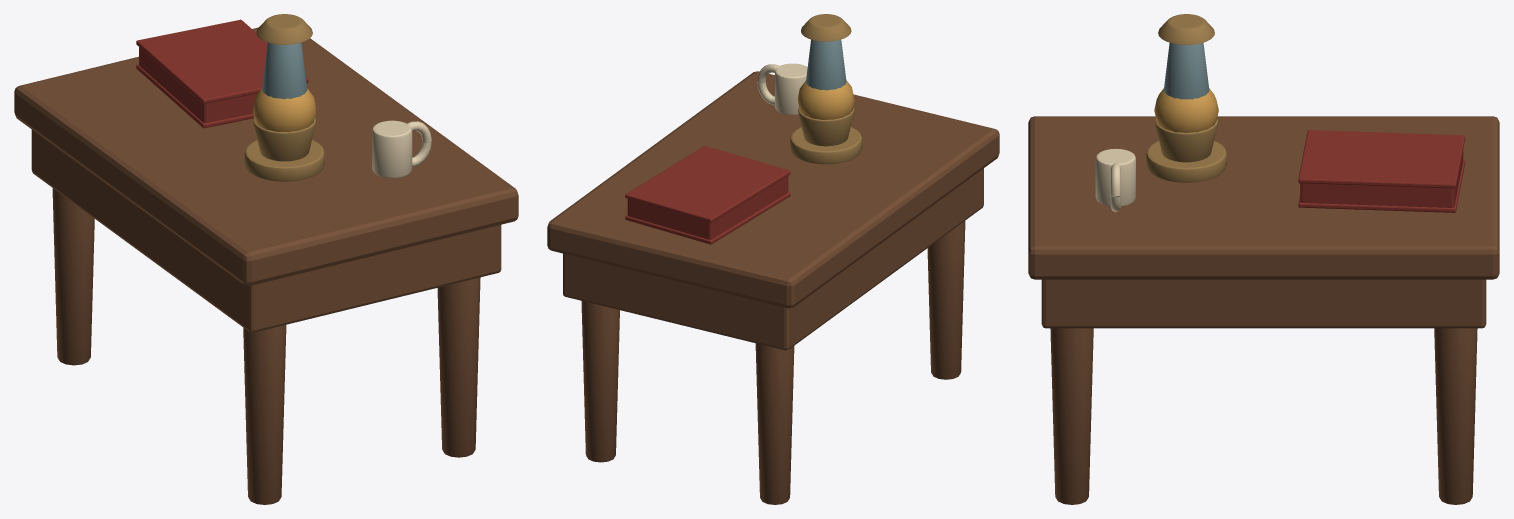
Rendered from SM_CP_CrimeTable.fbx.
3 renders of one model, left to right at view 1: azimuth 30°, elevation 25°; view 2: azimuth 150°, elevation 25°; view 3: azimuth 270°, elevation 25°, orthographic. The views are drawn at different scales.
Parts seen in each view (by area): view 1: SM_CP_CrimeTable; view 2: SM_CP_CrimeTable; view 3: SM_CP_CrimeTable.
Part boxes in pixels (left/top/right/bottom): SM_CP_CrimeTable: left=14, top=14, right=518, bottom=504; SM_CP_CrimeTable: left=547, top=14, right=999, bottom=504; SM_CP_CrimeTable: left=1028, top=14, right=1499, bottom=504.
Size of what is drawn, in the model's own units: 95 by 140 by 138.
